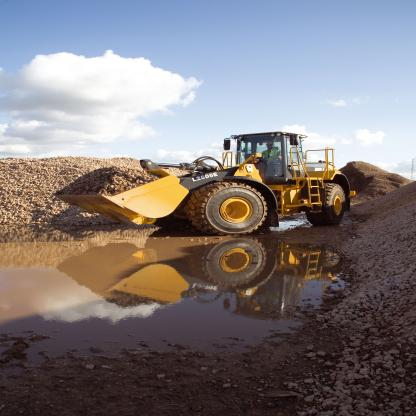bull_dozer/loader/grader: (71, 127, 377, 236)
